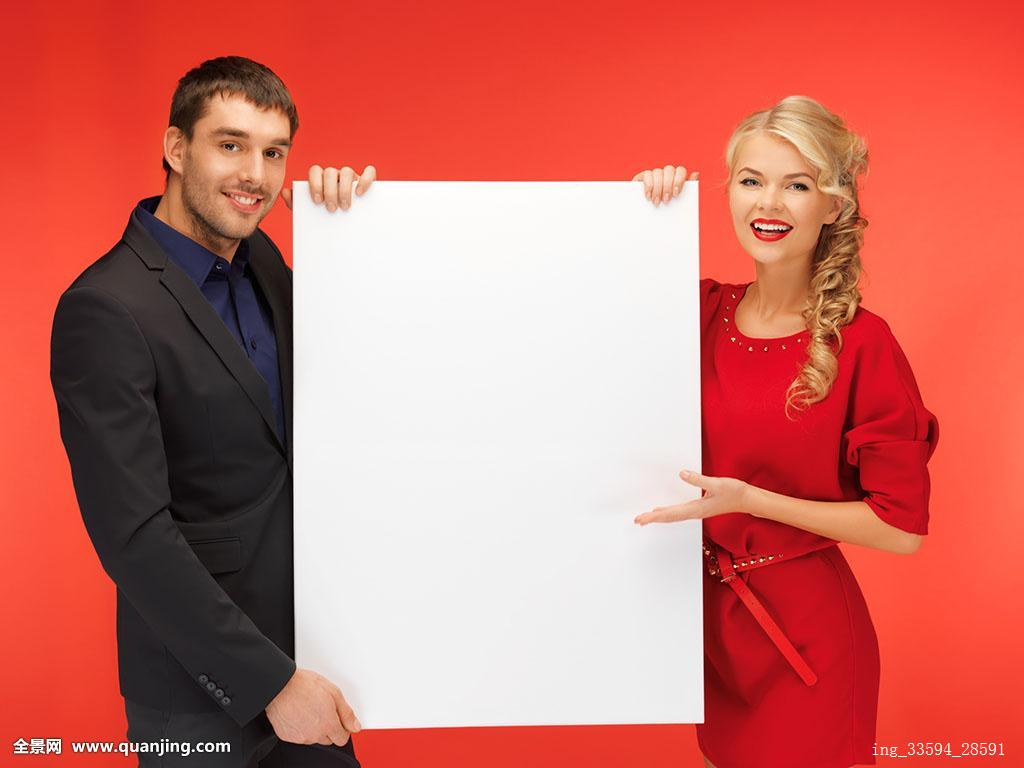flexible: (52, 194, 363, 768), (678, 275, 940, 768)
